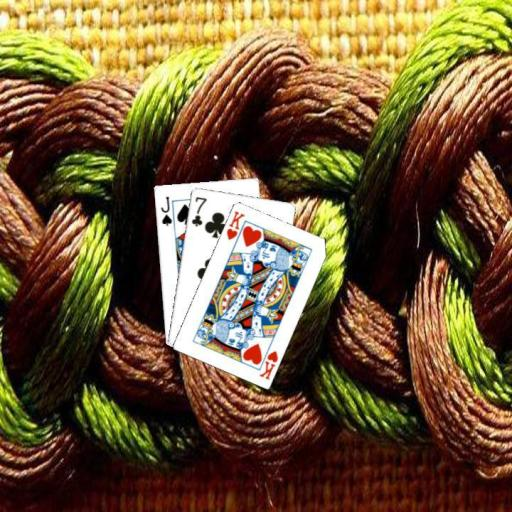7C: (189, 194, 209, 228)
JS: (157, 193, 173, 227)
KH: (223, 208, 246, 241), (256, 347, 279, 380)
